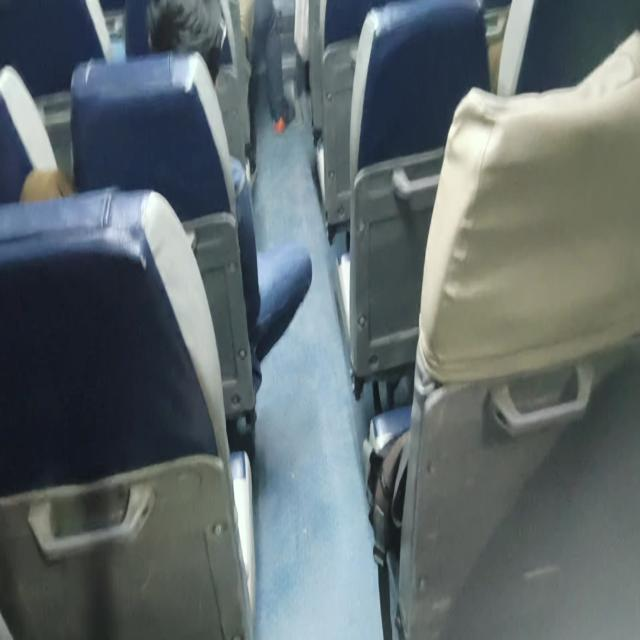person: (365, 28, 639, 636), (19, 49, 312, 457), (144, 1, 312, 397), (144, 1, 256, 185), (240, 0, 294, 134), (144, 0, 225, 87)
